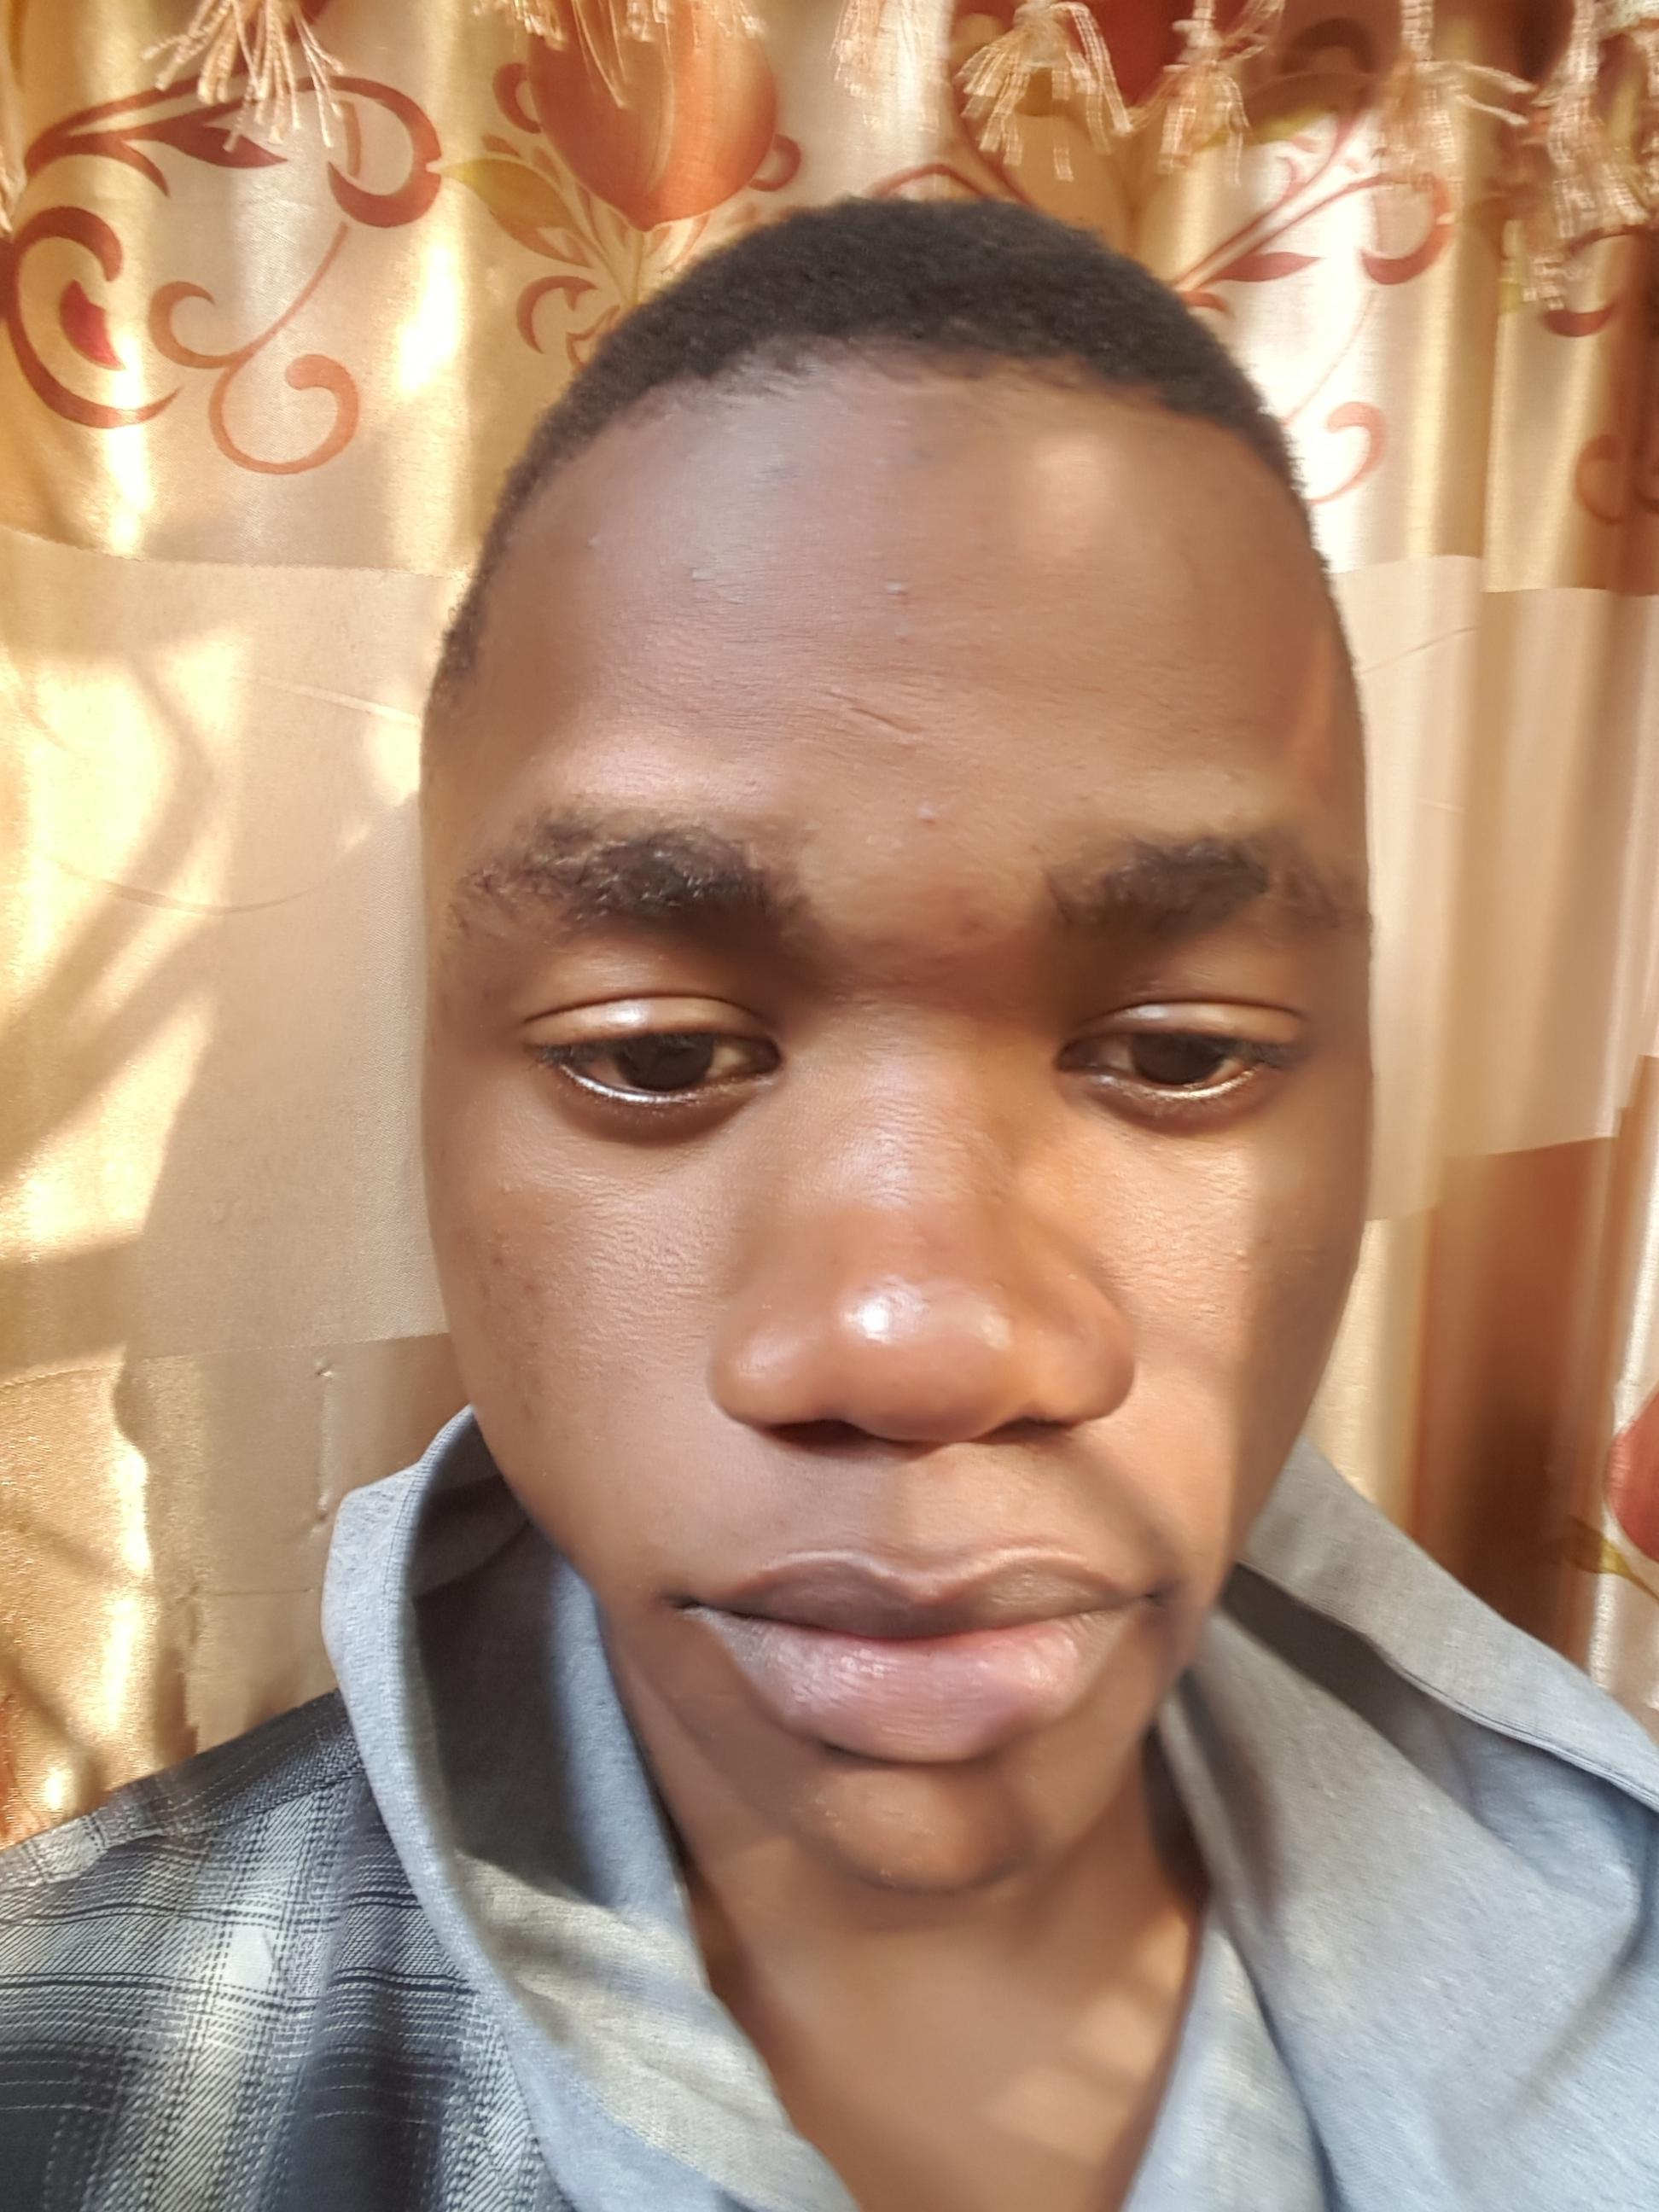Acne: (479, 1237, 572, 1420), (915, 792, 985, 850), (742, 446, 793, 493), (901, 1289, 941, 1325), (882, 577, 918, 611), (580, 529, 617, 559), (981, 1273, 1023, 1296), (908, 434, 936, 465), (1016, 1318, 1058, 1339), (673, 566, 713, 587), (1054, 1261, 1087, 1284), (1251, 1231, 1279, 1258), (899, 1230, 936, 1249), (753, 1298, 781, 1320), (871, 451, 896, 474)
Dry-Skin: (788, 1773, 880, 1838)
